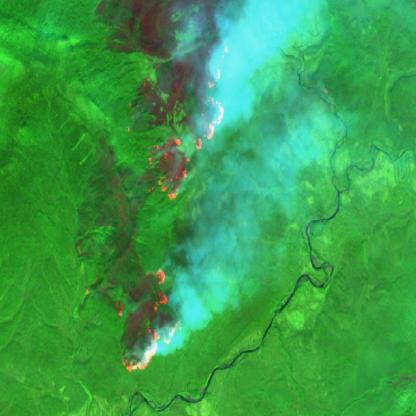fire: (142, 42, 236, 204), (116, 266, 186, 376)
